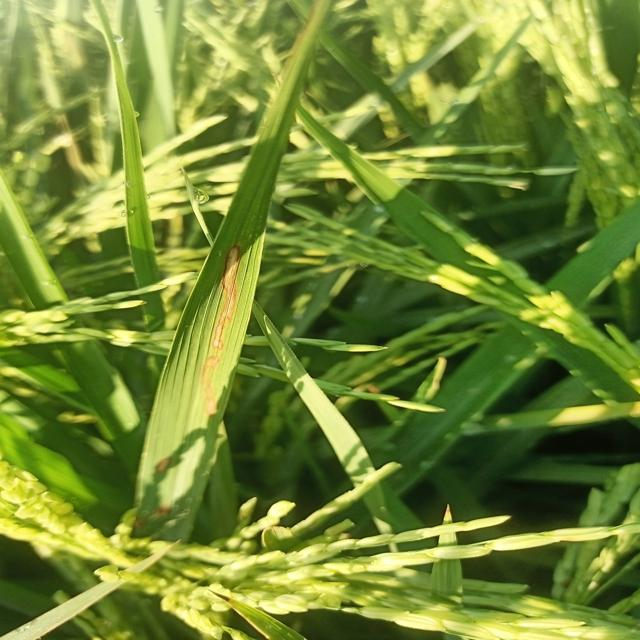Brown spot: (199, 236, 262, 422), (145, 444, 181, 524)
